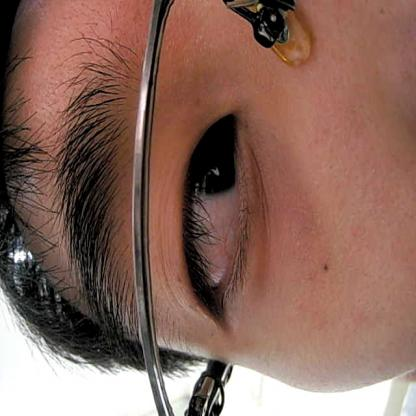Left: (169, 96, 257, 320)
